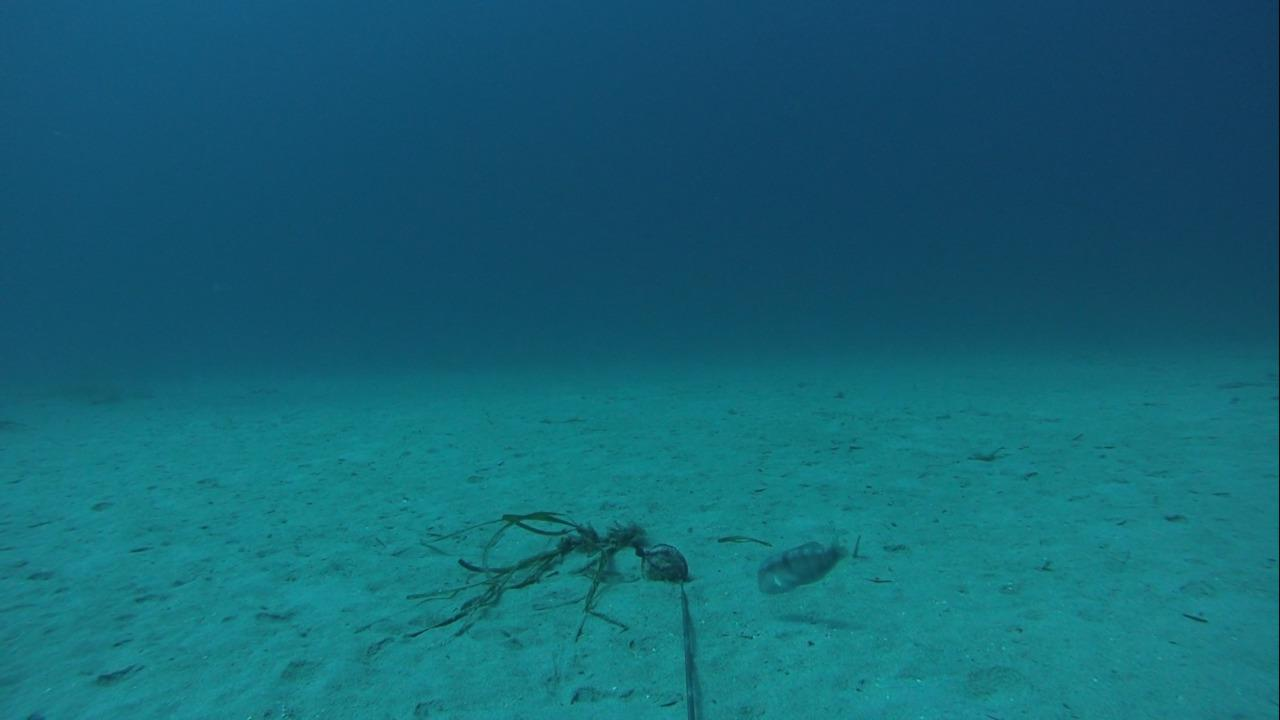raor: (749, 536, 855, 601)
